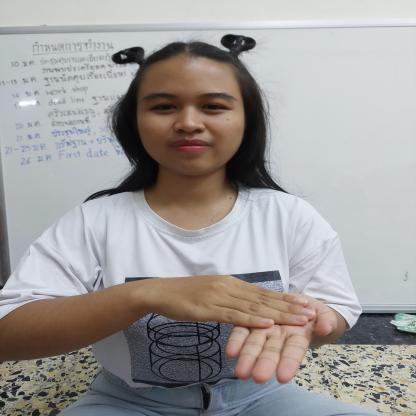Sorry: (138, 265, 336, 382)
